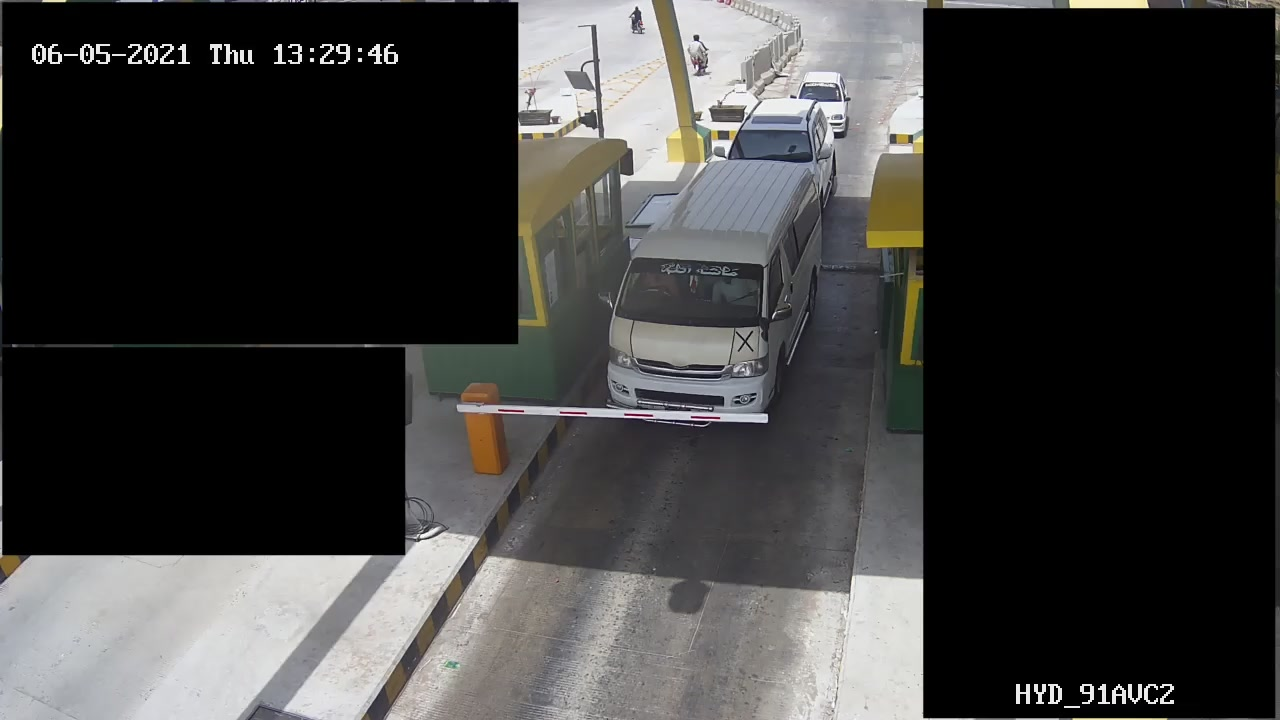F2: (603, 161, 835, 434)
